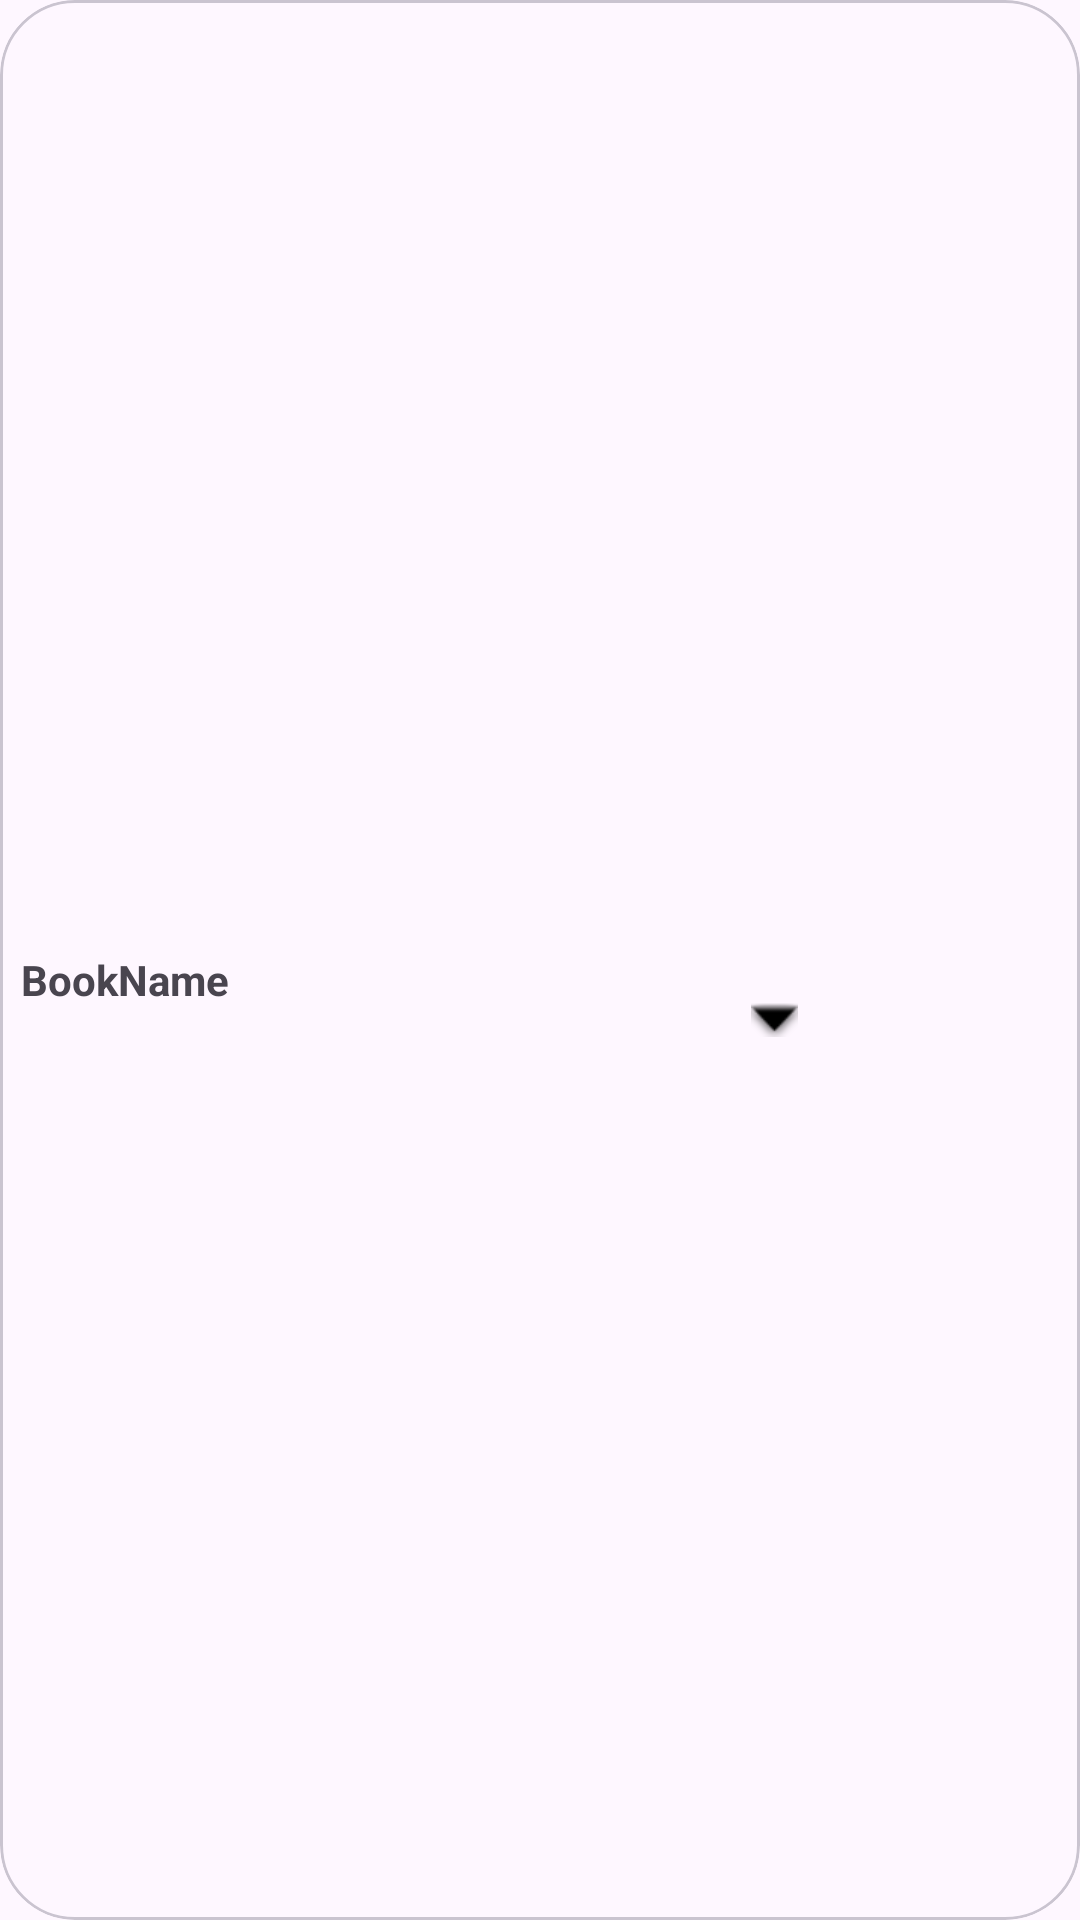

Screen size 1080×1920. Icon name, then its center in pixels as (x=x, y=y):
arrow down float: (x=774, y=1020)
